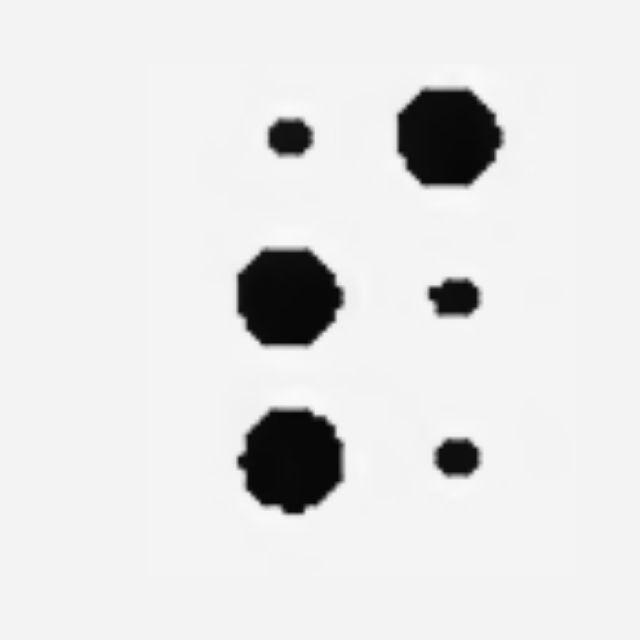sang-ayon: (235, 86, 505, 516)
